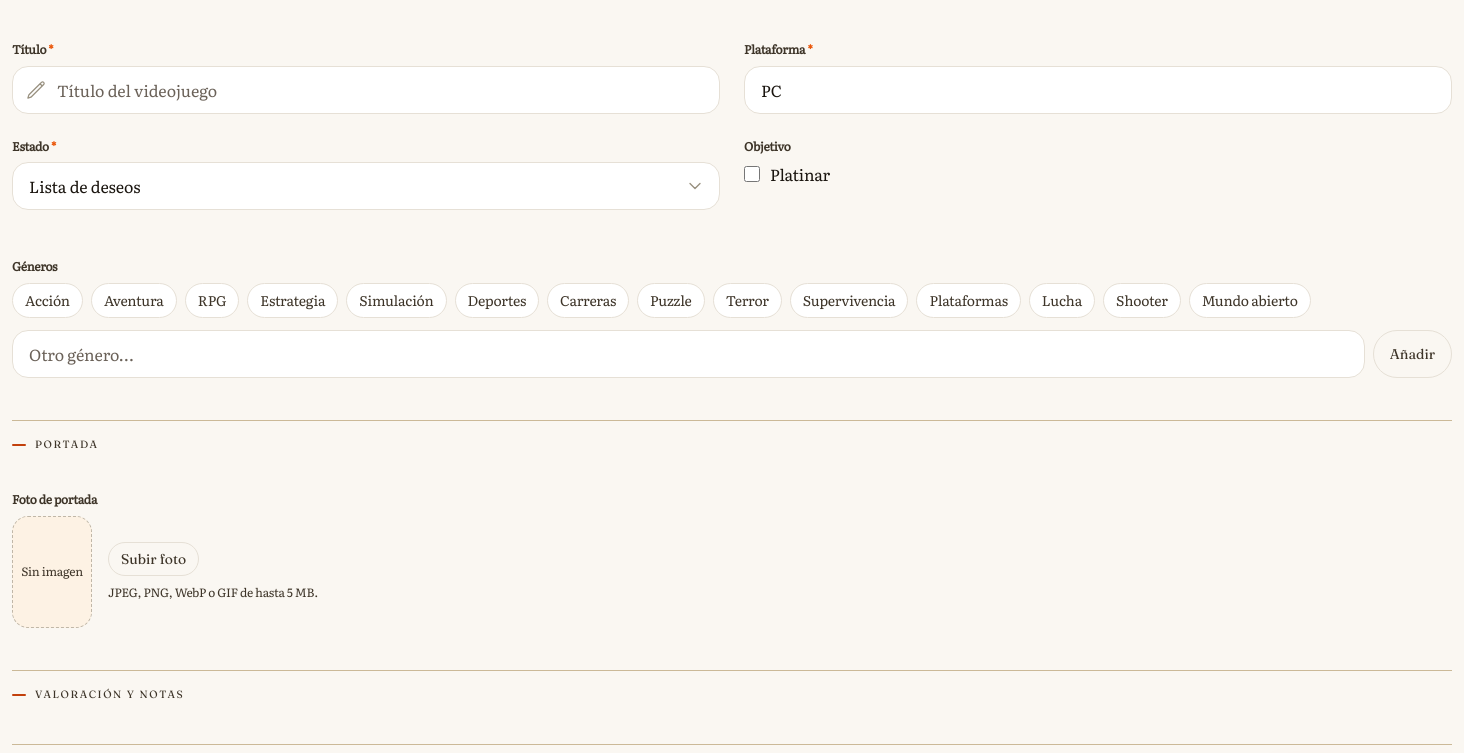
GameForm platinar › al crear en PLAYING propone hoy como fecha de obtención e inicio
The width and height of the screenshot is (1464, 753).
Select "Jugando" in the dropdown showing "Lista de deseos" at [366, 186], box [12,162,720,210]
(page scrolled)
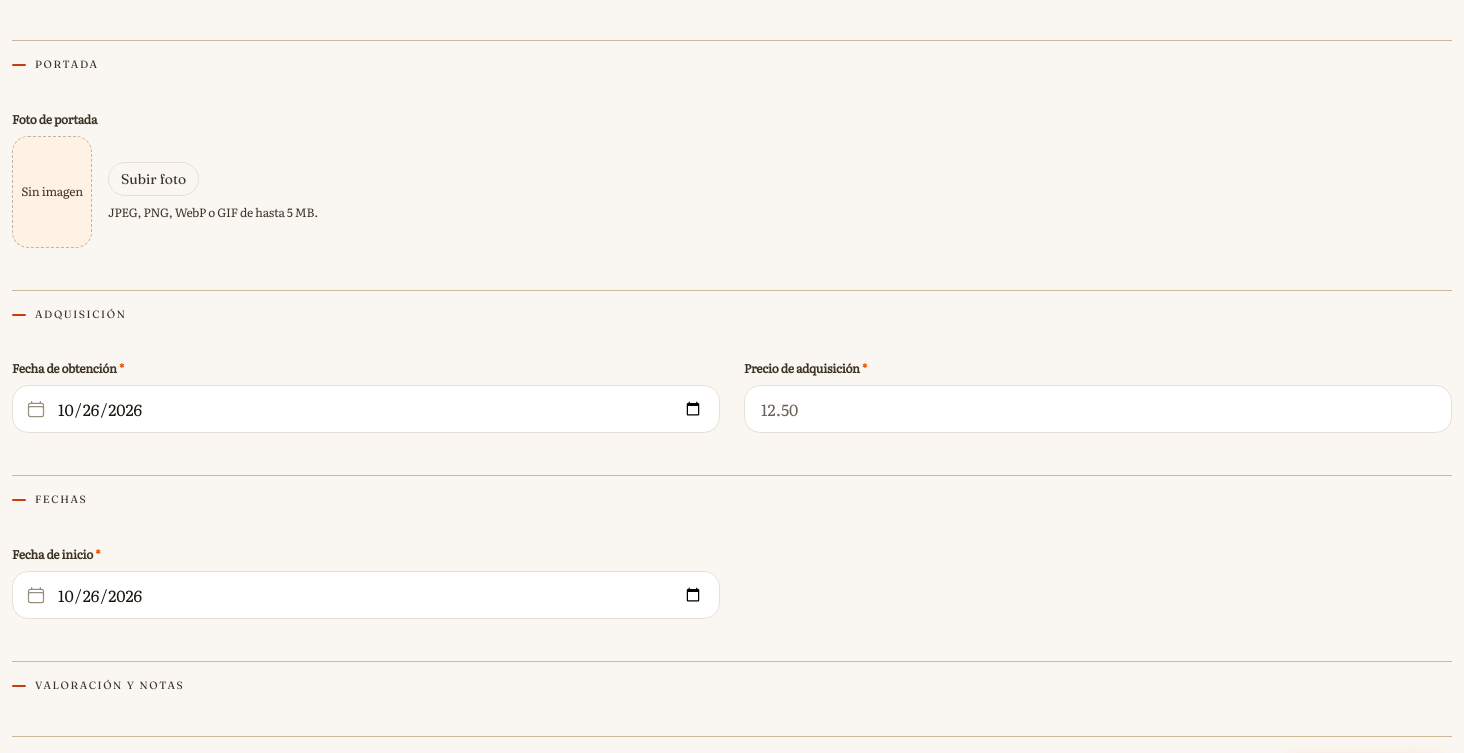
Check: the element "Adquisición" is shown, box [12,290,1452,433]
Check: the element "Fechas" is shown, box [12,475,1452,619]
